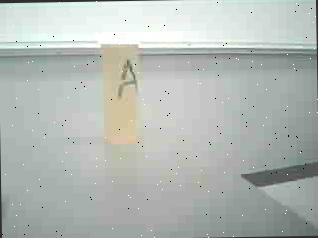Bottle A: (92, 28, 160, 156)
